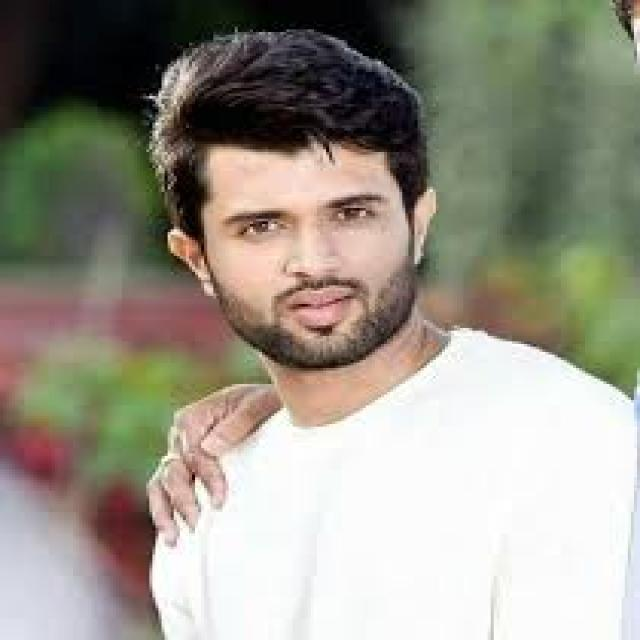low: (242, 234, 300, 250), (335, 223, 393, 236)
